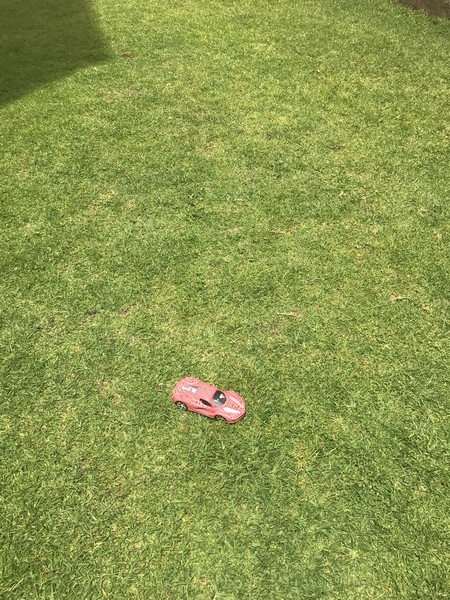RC: (168, 376, 247, 425)
